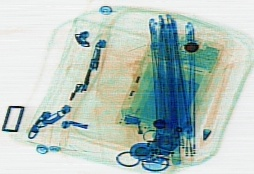lighter: (119, 105, 147, 151)
